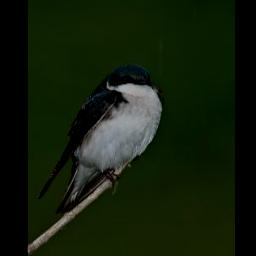Swallow: (37, 59, 166, 215)
